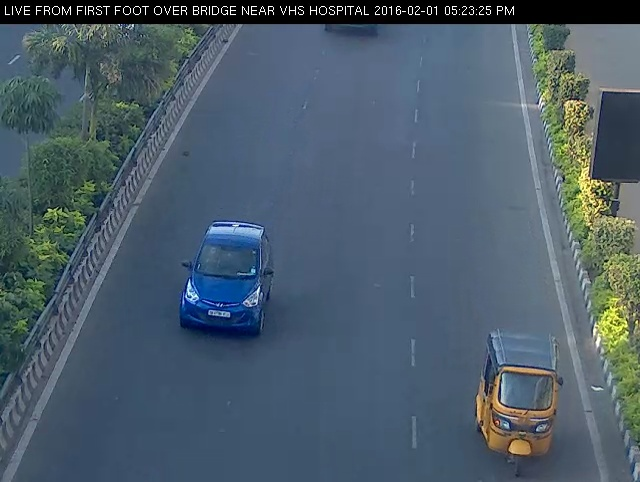Car: (470, 319, 569, 480), (172, 208, 281, 344)
